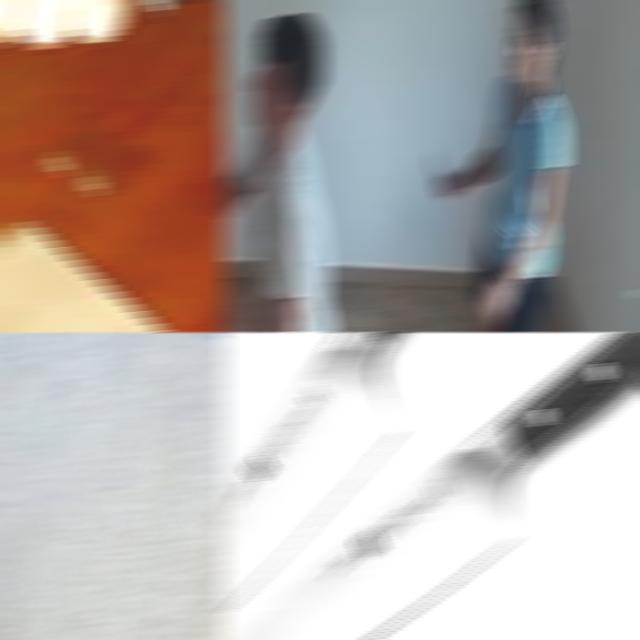Knife: (231, 332, 640, 640), (220, 332, 398, 611), (426, 149, 450, 187)
Knife_Handle: (424, 143, 462, 193)
